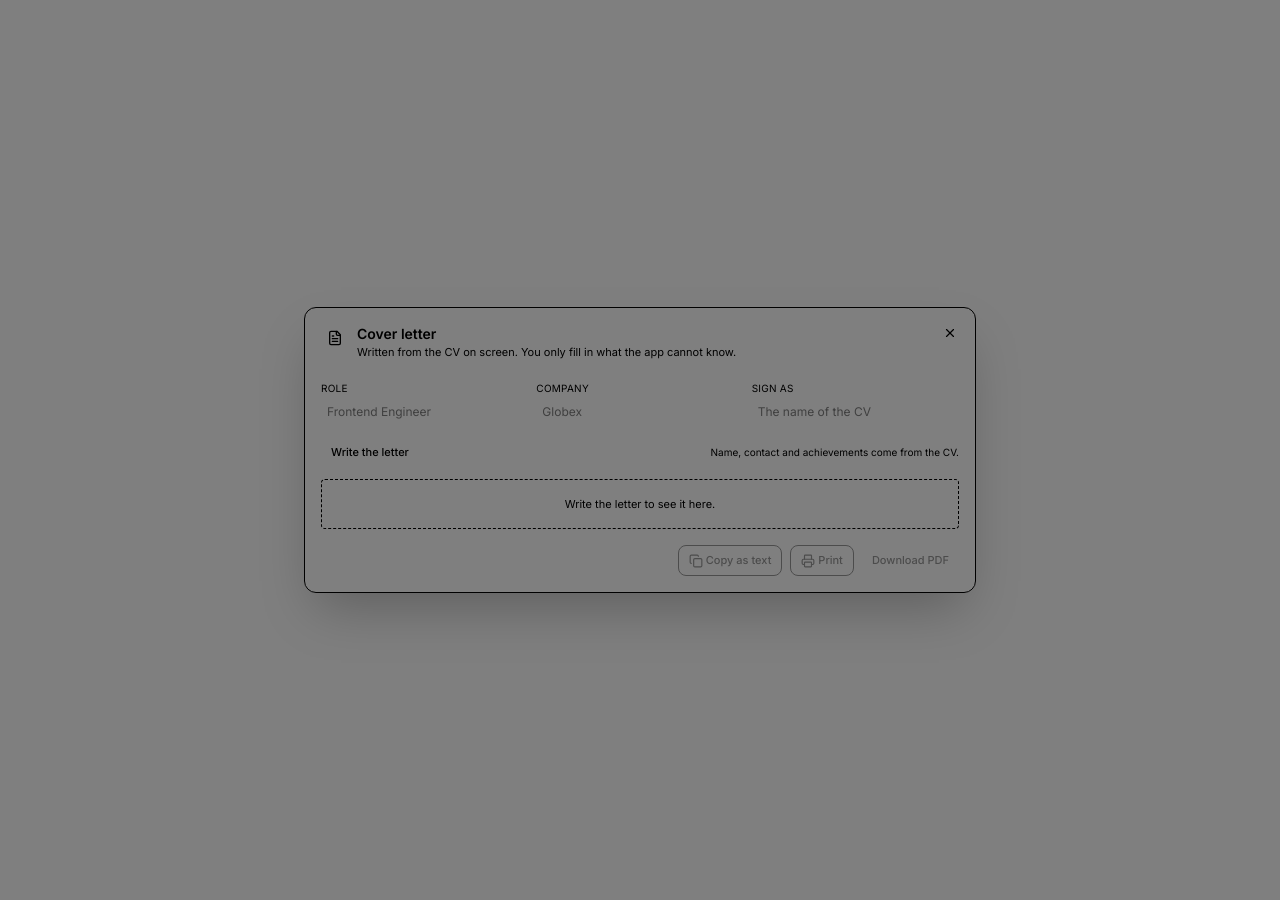
Test: CoverLetterModal › points at the placeholders while the role and the company are missing
The width and height of the screenshot is (1280, 900).
Click the button "Write the letter" at (370, 452), box [321,438,419,467]
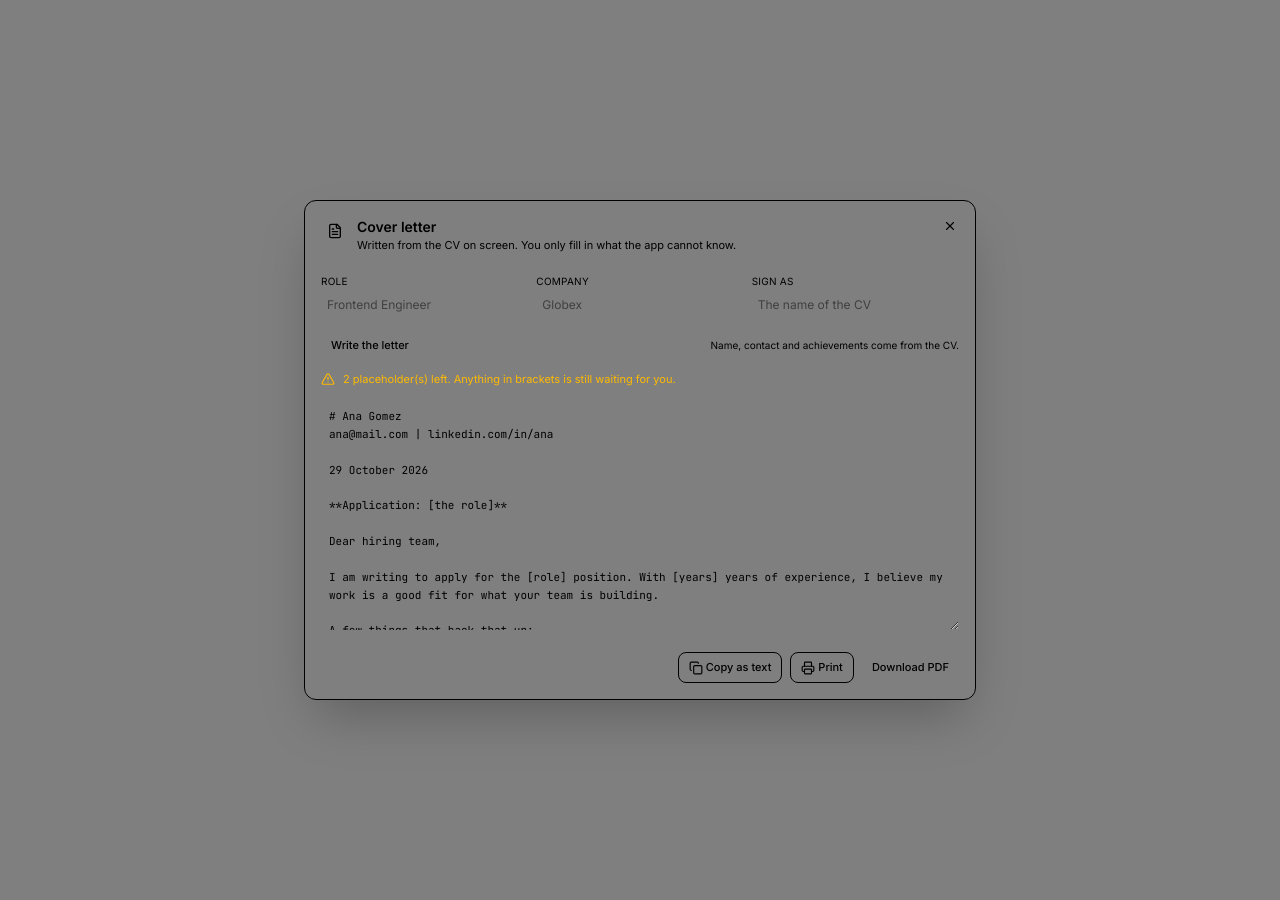
Expected: the text "placeholder(s) left" is shown, [343,372,676,386]
